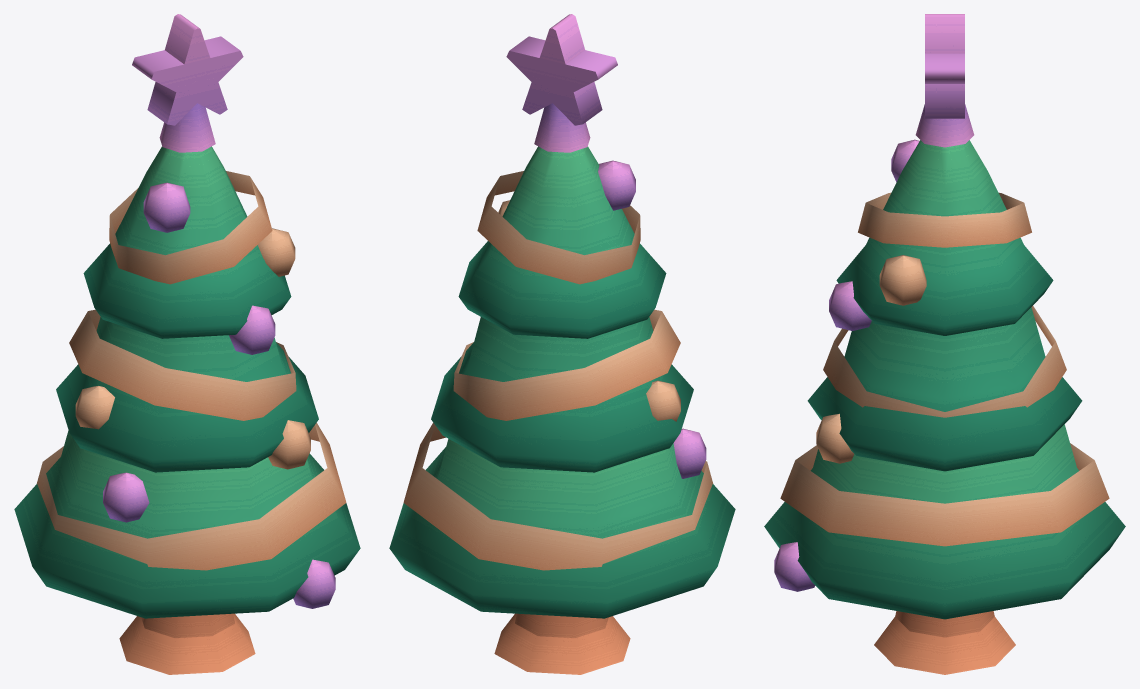
The model's file is christmas-planted.glb.
3 renders of one model, left to right at view 1: azimuth 30°, elevation 25°; view 2: azimuth 150°, elevation 25°; view 3: azimuth 270°, elevation 25°, orthographic.
Parts seen in each view (by area): view 1: tree-decorated; view 2: tree-decorated; view 3: tree-decorated.
Part boxes in pixels (x1,y1,x2,y2): tree-decorated: [14, 14, 360, 674]; tree-decorated: [389, 14, 735, 674]; tree-decorated: [764, 14, 1125, 674].
Size of the model in its own units: 1.19 by 2.29 by 1.19.
1 material, 1 textured.
